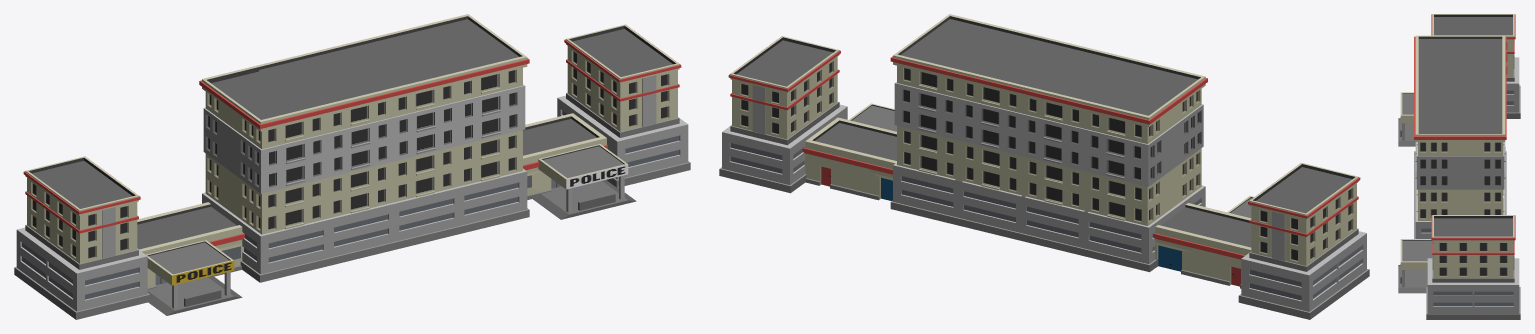
Rendered from SA_Correctional_Outside.fbx.
3 views of the same model, side by side, from view 1: azimuth 30°, elevation 25°; view 2: azimuth 150°, elevation 25°; view 3: azimuth 270°, elevation 25° (orthographic). The views are drawn at different scales.
Parts seen in each view (by area): view 1: S_Correctional; view 2: S_Correctional; view 3: S_Correctional.
Part boxes in pixels (x1=…): S_Correctional: x1=14, y1=14, x2=690, y2=319; S_Correctional: x1=719, y1=14, x2=1369, y2=319; S_Correctional: x1=1398, y1=14, x2=1520, y2=319.
Size of the model in its own units: 155 by 38.63 by 35.17.
Materials: 1 (1 with a texture image).
